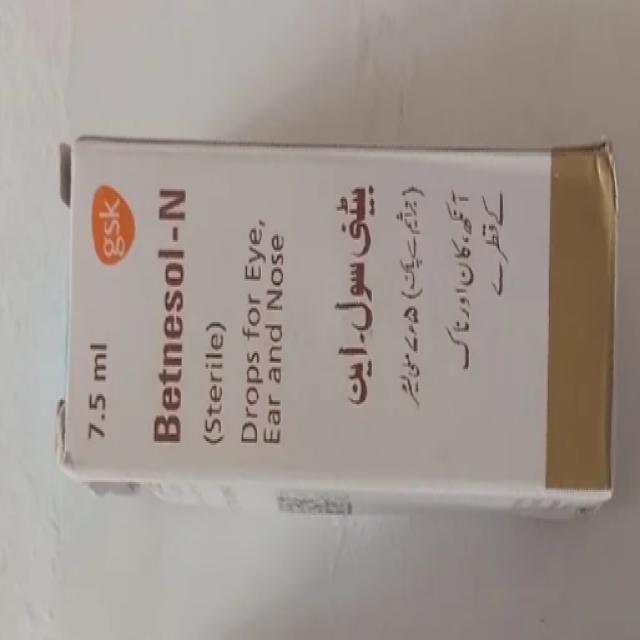drug-name: (150, 182, 188, 448)
